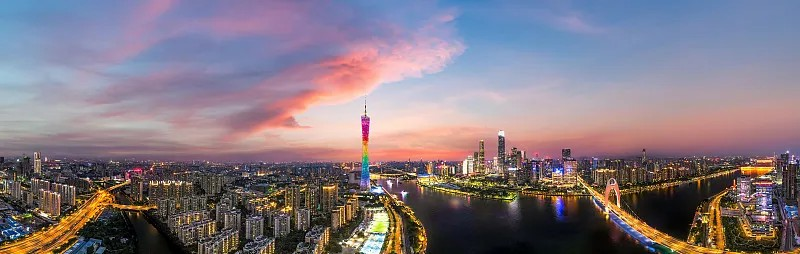Canton: (359, 93, 373, 193)
